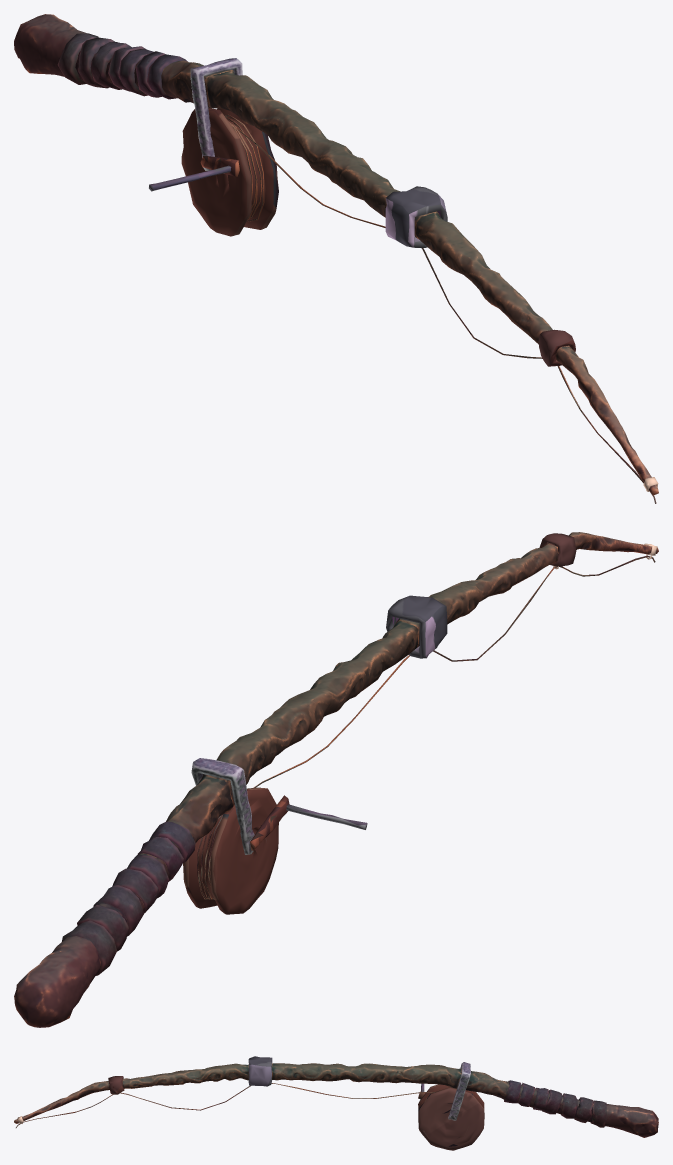
The model's file is FishingRodSketchfabfbx.fbx.
The picture shows the model from 3 angles, top to bottom: view 1: azimuth 30°, elevation 25°; view 2: azimuth 150°, elevation 25°; view 3: azimuth 270°, elevation 25°; orthographic projection. The views are drawn at different scales.
Visible parts, largest first — view 1: LowPolyRod, LowPolyRod.001; view 2: LowPolyRod, LowPolyRod.001; view 3: LowPolyRod.
Part boxes in pixels (x1,y1,x2,y2): LowPolyRod: (14, 14, 658, 503); LowPolyRod.001: (149, 156, 239, 191); LowPolyRod: (14, 532, 658, 1027); LowPolyRod.001: (250, 795, 367, 850); LowPolyRod: (14, 1056, 658, 1150).
Size of the model in its own units: 11.07 by 13.68 by 91.68.
